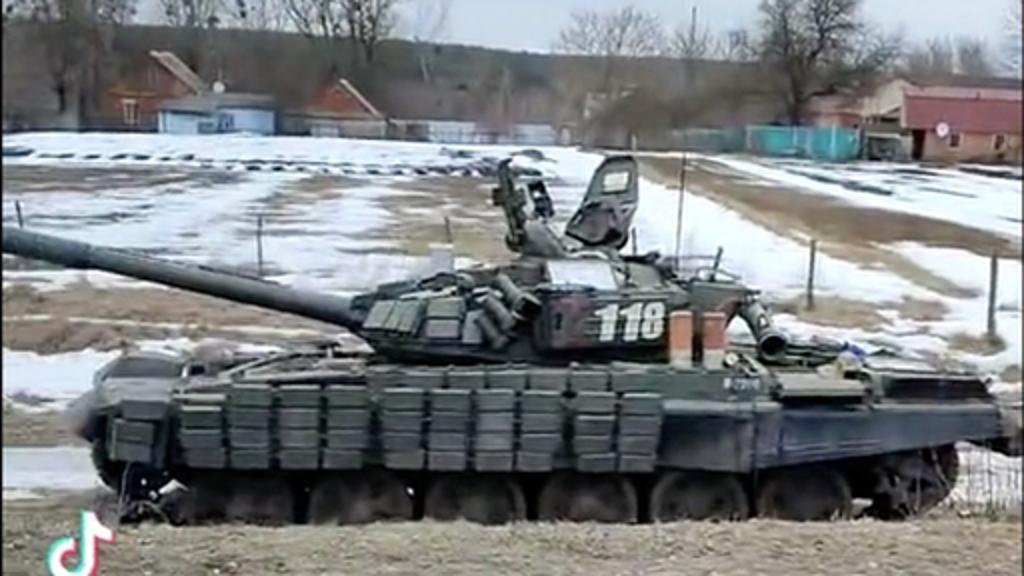TANK: (2, 186, 1012, 544)
